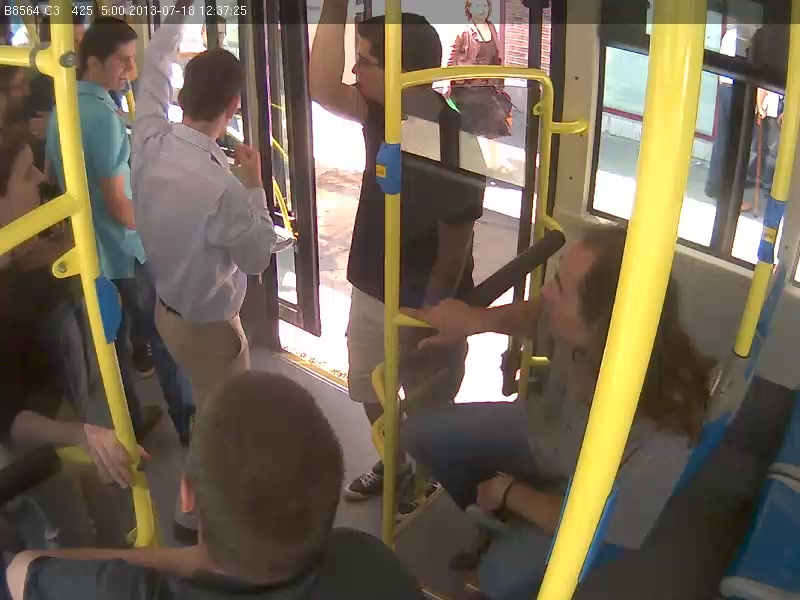Head: (179, 368, 350, 581), (544, 224, 625, 357), (348, 9, 445, 113), (177, 43, 254, 153), (2, 127, 56, 238), (77, 15, 140, 97)
